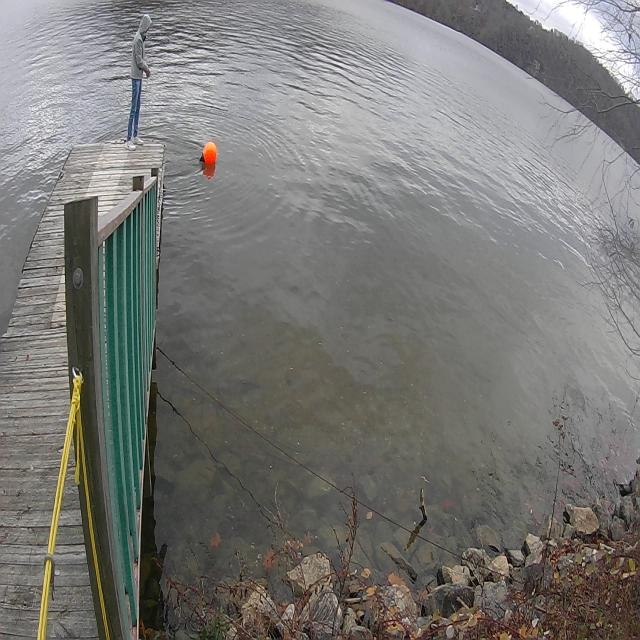Buoy: (198, 136, 220, 178)
